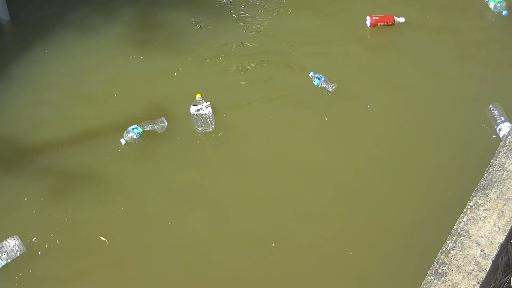plastic: (107, 112, 193, 153), (467, 88, 512, 144), (299, 62, 357, 99), (0, 217, 40, 265), (178, 87, 215, 138), (355, 6, 415, 35), (485, 0, 512, 25)
